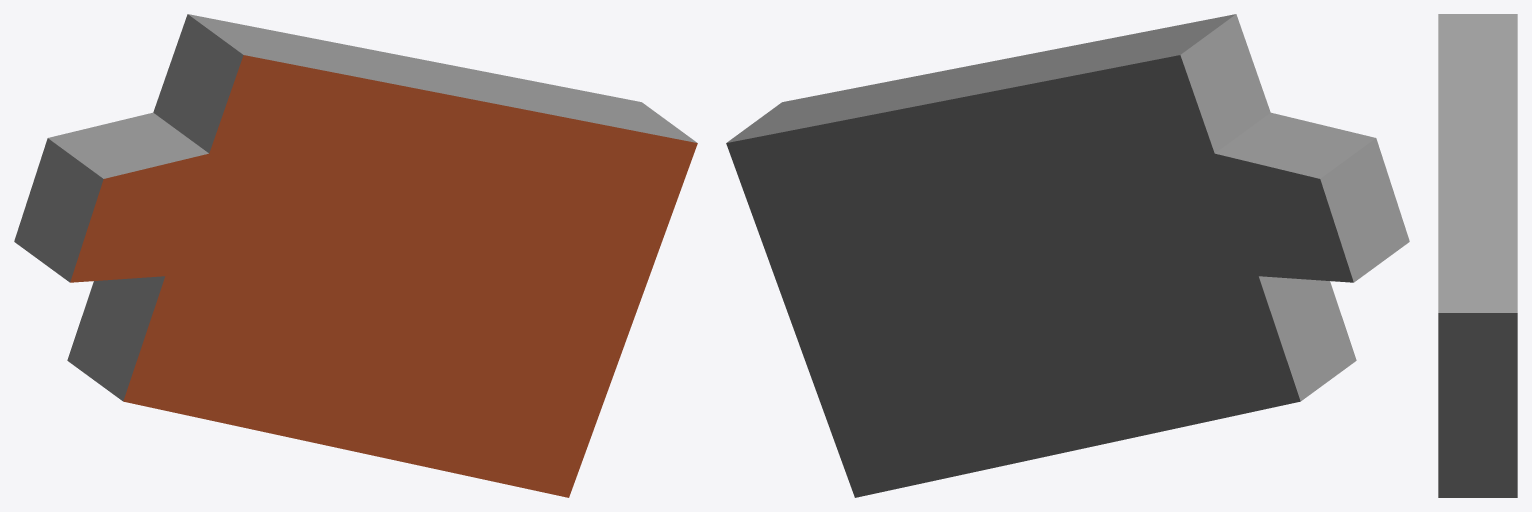
Rendered from construction_3273_assumed_A_Casa_h6m.obj.
3 renders of one model, left to right at view 1: azimuth 30°, elevation 25°; view 2: azimuth 150°, elevation 25°; view 3: azimuth 270°, elevation 25°, orthographic. The views are drawn at different scales.
Visible parts, largest first — view 1: construction_3273_assumed_A_Casa; view 2: construction_3273_assumed_A_Casa; view 3: construction_3273_assumed_A_Casa.
Boxes of the visible parts, bbox=[...] form: construction_3273_assumed_A_Casa: bbox=[14, 14, 697, 497]; construction_3273_assumed_A_Casa: bbox=[726, 14, 1409, 497]; construction_3273_assumed_A_Casa: bbox=[1438, 14, 1517, 497].
Bounding box in the file's own units: 38.83 × 30.87 × 6.
